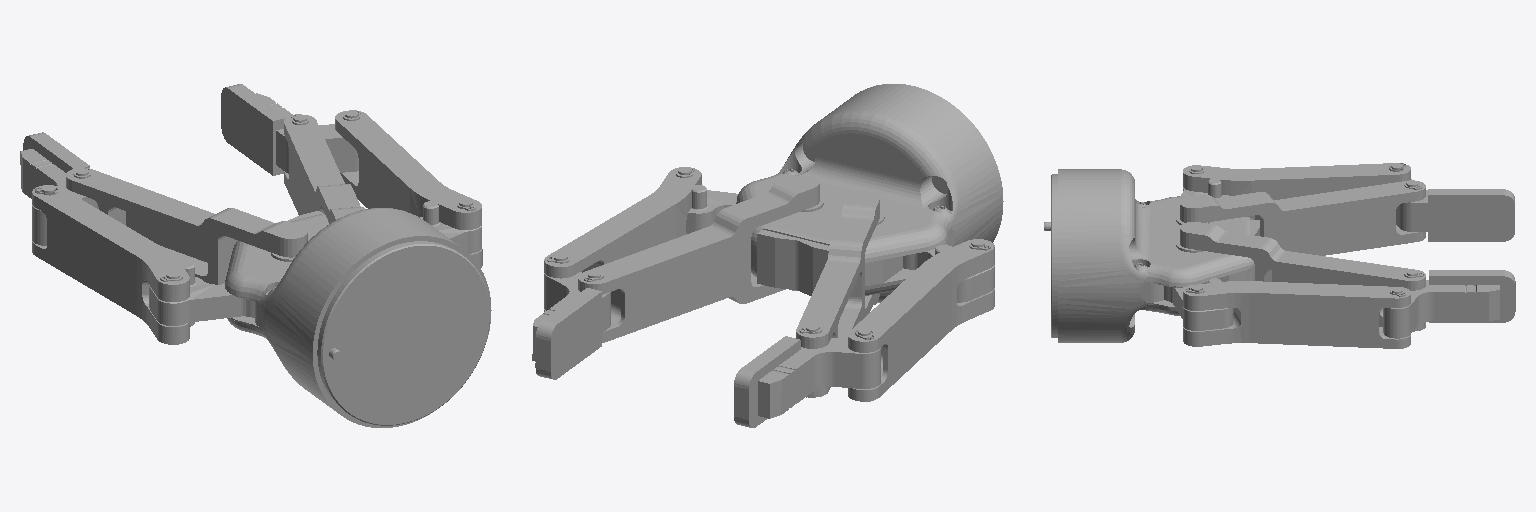
URDF robot description (ur10):
<robot name="ur10" xmlns:xacro="http://ros.org/wiki/xacro">
    <!-- measured from model -->
    <link name="base_link">
      <visual>
        <geometry>
          <mesh filename="package://ur_description/meshes/ur10/visual/base.dae"/>
        </geometry>
      </visual>
      <inertial>
        <mass value="4.0"/>
        <origin rpy="0 0 0" xyz="0.0 0.0 0.0"/>
        <inertia ixx="0.0061063308908" ixy="0.0" ixz="0.0" iyy="0.0061063308908" iyz="0.0" izz="0.01125"/>
      </inertial>
    </link>
    <joint name="shoulder_pan_joint" type="revolute">
      <parent link="base_link"/>
      <child link="shoulder_link"/>
      <origin rpy="0.0 0.0 0.0" xyz="0.0 0.0 0.1273"/>
      <axis xyz="0 0 1"/>
      <limit effort="330.0" lower="-3.14" upper="3.14" velocity="2.16"/>
      <dynamics damping="0.0" friction="0.0"/>
    </joint>
    <link name="shoulder_link">
      <visual>
        <geometry>
          <mesh filename="package://ur_description/meshes/ur10/visual/shoulder.dae"/>
        </geometry>
      </visual>
      <collision>
        <origin rpy="0 0 0" xyz="0 0 0.0"/>
        <geometry>
          <sphere radius="0.11"/>
        </geometry>
      </collision>
      <inertial>
        <mass value="7.778"/>
        <origin rpy="0 0 0" xyz="0.0 0.0 0.0"/>
        <inertia ixx="0.0314743125769" ixy="0.0" ixz="0.0" iyy="0.0314743125769" iyz="0.0" izz="0.021875625"/>
      </inertial>
    </link>
    <joint name="shoulder_lift_joint" type="revolute">
      <parent link="shoulder_link"/>
      <child link="upper_arm_link"/>
      <origin rpy="0.0 1.57 0.0" xyz="0.0 0.220941 0.0"/>
      <axis xyz="0 1 0"/>
      <limit effort="330.0" lower="-3.14" upper="3.14" velocity="2.16"/>
      <dynamics damping="0.0" friction="0.0"/>
    </joint>
    <link name="upper_arm_link">
      <visual>
        <geometry>
          <mesh filename="package://ur_description/meshes/ur10/visual/upperarm.dae"/>
        </geometry>
      </visual>
      <collision>
        <origin rpy="0 0 0" xyz="0 -0.05 0.3"/>
        <geometry>
          <cylinder length="0.6" radius="0.11"/>
        </geometry>
      </collision>
      <collision>
        <origin rpy="0 0 0" xyz="0 -0.05 0"/>
        <geometry>
          <sphere radius="0.11"/>
        </geometry>
      </collision>
      <collision>
        <origin rpy="0 0 0" xyz="0 -0.05 0.6"/>
        <geometry>
          <sphere radius="0.11"/>
        </geometry>
      </collision>
      <inertial>
        <mass value="12.93"/>
        <origin rpy="0 0 0" xyz="0.0 0.0 0.306"/>
        <inertia ixx="0.421753803798" ixy="0.0" ixz="0.0" iyy="0.421753803798" iyz="0.0" izz="0.036365625"/>
      </inertial>
    </link>
    <joint name="elbow_joint" type="revolute">
      <parent link="upper_arm_link"/>
      <child link="forearm_link"/>
      <origin rpy="0.0 0.0 0.0" xyz="0.0 -0.1719 0.612"/>
      <axis xyz="0 1 0"/>
      <limit effort="150.0" lower="-3.14" upper="3.14" velocity="3.15"/>
      <dynamics damping="0.0" friction="0.0"/>
    </joint>
    <link name="forearm_link">
      <visual>
        <geometry>
          <mesh filename="package://ur_description/meshes/ur10/visual/forearm.dae"/>
        </geometry>
      </visual>
      <collision>
        <origin rpy="0 0 0" xyz="0 0 0.28"/>
        <geometry>
          <cylinder length="0.56" radius="0.08"/>
        </geometry>
      </collision>
      <collision>
        <origin rpy="0 0 0" xyz="0 0 0.56"/>
        <geometry>
          <sphere radius="0.08"/>
        </geometry>
      </collision>
      <collision>
        <origin rpy="0 0 0" xyz="0 0 0"/>
        <geometry>
          <sphere radius="0.08"/>
        </geometry>
      </collision>
      <inertial>
        <mass value="3.87"/>
        <origin rpy="0 0 0" xyz="0.0 0.0 0.28615"/>
        <inertia ixx="0.111069694097" ixy="0.0" ixz="0.0" iyy="0.111069694097" iyz="0.0" izz="0.010884375"/>
      </inertial>
    </link>
    <joint name="wrist_1_joint" type="revolute">
      <parent link="forearm_link"/>
      <child link="wrist_1_link"/>
      <origin rpy="0.0 1.57 0.0" xyz="0.0 0.0 0.5723"/>
      <axis xyz="0 1 0"/>
      <limit effort="54.0" lower="-3.14" upper="3.14" velocity="3.2"/>
      <dynamics damping="0.0" friction="0.0"/>
    </joint>
    <link name="wrist_1_link">
      <visual>
        <geometry>
          <mesh filename="package://ur_description/meshes/ur10/visual/wrist1.dae"/>
        </geometry>
      </visual>
      <collision>
        <origin rpy="0 0 0" xyz="0 0.1149 0"/>
        <geometry>
          <sphere radius="0.08"/>
        </geometry>
      </collision>
      <inertial>
        <mass value="1.96"/>
        <origin rpy="0 0 0" xyz="0.0 0.0 0.0"/>
        <inertia ixx="0.0051082479567" ixy="0.0" ixz="0.0" iyy="0.0051082479567" iyz="0.0" izz="0.0055125"/>
      </inertial>
    </link>
    <joint name="wrist_2_joint" type="revolute">
      <parent link="wrist_1_link"/>
      <child link="wrist_2_link"/>
      <origin rpy="0.0 0.0 0.0" xyz="0.0 0.1149 0.0"/>
      <axis xyz="0 0 1"/>
      <limit effort="54.0" lower="-3.14" upper="3.14" velocity="3.2"/>
      <dynamics damping="0.0" friction="0.0"/>
    </joint>
    <link name="wrist_2_link">
      <visual>
        <geometry>
          <mesh filename="package://ur_description/meshes/ur10/visual/wrist2.dae"/>
        </geometry>
      </visual>
      <collision>
        <origin rpy="0 0 0" xyz="0 0 0.1157"/>
        <geometry>
          <sphere radius="0.08"/>
        </geometry>
      </collision>
      <inertial>
        <mass value="1.96"/>
        <origin rpy="0 0 0" xyz="0.0 0.0 0.0"/>
        <inertia ixx="0.0051082479567" ixy="0.0" ixz="0.0" iyy="0.0051082479567" iyz="0.0" izz="0.0055125"/>
      </inertial>
    </link>
    <joint name="wrist_3_joint" type="revolute">
      <parent link="wrist_2_link"/>
      <child link="wrist_3_link"/>
      <origin rpy="0.0 0.0 0.0" xyz="0.0 0.0 0.1157"/>
      <axis xyz="0 1 0"/>
      <limit effort="54.0" lower="-3.14" upper="3.14" velocity="3.2"/>
      <dynamics damping="0.0" friction="0.0"/>
    </joint>
    <link name="wrist_3_link">
      <visual>
        <geometry>
          <mesh filename="package://ur_description/meshes/ur10/visual/wrist3.dae"/>
        </geometry>
      </visual>
      <collision>
        <origin rpy="0 0 0" xyz="0 0.2622 0"/>
        <geometry>
          <sphere radius="0.1"/>
        </geometry>
      </collision>
      <inertial>
        <mass value="0.202"/>
        <origin rpy="0 0 0" xyz="0.0 0.0 0.0"/>
        <inertia ixx="0.000526462289415" ixy="0.0" ixz="0.0" iyy="0.000526462289415" iyz="0.0" izz="0.000568125"/>
      </inertial>
    </link>
    <joint name="ee_fixed_joint" type="fixed">
      <parent link="wrist_3_link"/>
      <child link="ee_link"/>
      <origin rpy="0.0 0.0 1.57" xyz="0.0 0.0922 0.0"/>
    </joint>
    <link name="ee_link"/>
    <transmission name="shoulder_pan_trans">
      <type>transmission_interface/SimpleTransmission</type>
      <joint name="shoulder_pan_joint">
        <hardwareInterface>hardware_interface/VelocityJointInterface</hardwareInterface>
      </joint>
      <actuator name="shoulder_pan_motor">
        <mechanicalReduction>1</mechanicalReduction>
        <hardwareInterface>hardware_interface/VelocityJointInterface</hardwareInterface>
      </actuator>
    </transmission>
    <transmission name="shoulder_lift_trans">
      <type>transmission_interface/SimpleTransmission</type>
      <joint name="shoulder_lift_joint">
        <hardwareInterface>hardware_interface/VelocityJointInterface</hardwareInterface>
      </joint>
      <actuator name="shoulder_lift_motor">
        <mechanicalReduction>1</mechanicalReduction>
        <hardwareInterface>hardware_interface/VelocityJointInterface</hardwareInterface>
      </actuator>
    </transmission>
    <transmission name="elbow_trans">
      <type>transmission_interface/SimpleTransmission</type>
      <joint name="elbow_joint">
        <hardwareInterface>hardware_interface/VelocityJointInterface</hardwareInterface>
      </joint>
      <actuator name="elbow_motor">
        <mechanicalReduction>1</mechanicalReduction>
        <hardwareInterface>hardware_interface/VelocityJointInterface</hardwareInterface>
      </actuator>
    </transmission>
    <transmission name="wrist_1_trans">
      <type>transmission_interface/SimpleTransmission</type>
      <joint name="wrist_1_joint">
        <hardwareInterface>hardware_interface/VelocityJointInterface</hardwareInterface>
      </joint>
      <actuator name="wrist_1_motor">
        <mechanicalReduction>1</mechanicalReduction>
        <hardwareInterface>hardware_interface/VelocityJointInterface</hardwareInterface>
      </actuator>
    </transmission>
    <transmission name="wrist_2_trans">
      <type>transmission_interface/SimpleTransmission</type>
      <joint name="wrist_2_joint">
        <hardwareInterface>hardware_interface/VelocityJointInterface</hardwareInterface>
      </joint>
      <actuator name="wrist_2_motor">
        <mechanicalReduction>1</mechanicalReduction>
        <hardwareInterface>hardware_interface/VelocityJointInterface</hardwareInterface>
      </actuator>
    </transmission>
    <transmission name="wrist_3_trans">
      <type>transmission_interface/SimpleTransmission</type>
      <joint name="wrist_3_joint">
        <hardwareInterface>hardware_interface/VelocityJointInterface</hardwareInterface>
      </joint>
      <actuator name="wrist_3_motor">
        <mechanicalReduction>1</mechanicalReduction>
        <hardwareInterface>hardware_interface/VelocityJointInterface</hardwareInterface>
      </actuator>
    </transmission>
    <joint name="robotiq_140_base_joint" type="fixed">
      <parent link="ee_link"/>
      <child link="robotiq_140_base_link"/>
      <origin rpy="0.0 0.0 0.0" xyz="0.03 0.0 0.0"/>
      <!-- 3cm for force-torque sensor. TODO: replace by real model -->
    </joint>
    <link name="robotiq_140_base_link">
      <visual>
        <geometry>
          <mesh filename="package://ur_description/meshes/robotiq_140/visual/robotiq_140_base_link.dae"/>
        </geometry>
      </visual>
      <inertial>
        <mass value="0.636951"/>
        <origin xyz="0.0 0.0 0.0"/>
        <inertia ixx="0.000380" ixy="0.000000" ixz="0.000000" iyx="0.000000" iyy="0.001110" iyz="0.000000" izx="0.000000" izy="0.000000" izz="0.001171"/>
      </inertial>
    </link>
    <joint name="robotiq_140_left_knuckle_joint" type="revolute">
      <parent link="robotiq_140_base_link"/>
      <child link="robotiq_140_left_knuckle_link"/>
      <axis xyz="0 0 1"/>
      <origin rpy="3.14 0.0 0.0" xyz="0.05490452 0.03060114 0.0"/>
      <limit effort="1000" lower="-0.402" upper="0.402" velocity="2.0"/>
    </joint>
    <joint name="robotiq_140_right_knuckle_joint" type="continuous">
      <parent link="robotiq_140_base_link"/>
      <child link="robotiq_140_right_knuckle_link"/>
      <axis xyz="0 0 1"/>
      <origin rpy="0.0 0.0 0.0" xyz="0.05490452 -0.03060114 0.0"/>
      <limit effort="1000" lower="-3.14" upper="3.14" velocity="100.0"/>
      <mimic joint="robotiq_140_left_knuckle_joint"/>
    </joint>
    <link name="robotiq_140_left_knuckle_link">
      <visual>
        <geometry>
          <mesh filename="package://ur_description/meshes/robotiq_140/visual/robotiq_140_knuckle_link.dae"/>
        </geometry>
      </visual>
      <inertial>
        <mass value="0.018491"/>
        <origin xyz="0.0 0.0 0.0"/>
        <inertia ixx="0.000009" ixy="-0.000001" ixz="0.000000" iyx="-0.000001" iyy="0.000001" iyz="0.000000" izx="0.000000" izy="0.000000" izz="0.000010"/>
      </inertial>
    </link>
    <link name="robotiq_140_right_knuckle_link">
      <visual>
        <geometry>
          <mesh filename="package://ur_description/meshes/robotiq_140/visual/robotiq_140_knuckle_link.dae"/>
        </geometry>
      </visual>
      <inertial>
        <mass value="0.018491"/>
        <origin xyz="0.0 0.0 0.0"/>
        <inertia ixx="0.000009" ixy="-0.000001" ixz="0.000000" iyx="-0.000001" iyy="0.000001" iyz="0.000000" izx="0.000000" izy="0.000000" izz="0.000010"/>
      </inertial>
    </link>
    <joint name="robotiq_140_left_finger_joint" type="fixed">
      <parent link="robotiq_140_left_knuckle_link"/>
      <child link="robotiq_140_left_finger_link"/>
      <origin rpy="0 0 0" xyz="0.00795779 -0.03073656 0.0"/>
    </joint>
    <joint name="robotiq_140_right_finger_joint" type="fixed">
      <parent link="robotiq_140_right_knuckle_link"/>
      <child link="robotiq_140_right_finger_link"/>
      <origin rpy="0 0 0" xyz="0.00795779 -0.03073656 0.0"/>
    </joint>
    <link name="robotiq_140_left_finger_link">
      <visual>
        <geometry>
          <mesh filename="package://ur_description/meshes/robotiq_140/visual/robotiq_140_finger_link.dae"/>
        </geometry>
      </visual>
      <inertial>
        <mass value="0.027309"/>
        <origin xyz="0.0 0.0 0.0"/>
        <inertia ixx="0.000003" ixy="-0.000002" ixz="0.000000" iyx="-0.000002" iyy="0.000021" iyz="0.000000" izx="0.000000" izy="0.000000" izz="0.000020"/>
      </inertial>
    </link>
    <link name="robotiq_140_right_finger_link">
      <visual>
        <geometry>
          <mesh filename="package://ur_description/meshes/robotiq_140/visual/robotiq_140_finger_link.dae"/>
        </geometry>
      </visual>
      <inertial>
        <mass value="0.027309"/>
        <origin xyz="0.0 0.0 0.0"/>
        <inertia ixx="0.000003" ixy="-0.000002" ixz="0.000000" iyx="-0.000002" iyy="0.000021" iyz="0.000000" izx="0.000000" izy="0.000000" izz="0.000020"/>
      </inertial>
    </link>
    <joint name="robotiq_140_left_inner_knuckle_joint" type="continuous">
      <parent link="robotiq_140_base_link"/>
      <child link="robotiq_140_left_inner_knuckle_link"/>
      <axis xyz="0 0 1"/>
      <origin rpy="3.14 0.0 0.0" xyz="0.06142 0.0127 0"/>
      <limit effort="0.1" lower="-3.14" upper="3.14" velocity="100.0"/>
      <mimic joint="robotiq_140_left_knuckle_joint" offset="0"/>
    </joint>
    <joint name="robotiq_140_right_inner_knuckle_joint" type="continuous">
      <parent link="robotiq_140_base_link"/>
      <child link="robotiq_140_right_inner_knuckle_link"/>
      <axis xyz="0 0 1"/>
      <origin rpy="0 0 0" xyz="0.06142 -0.0127 0"/>
      <limit effort="0.1" lower="-3.14" upper="3.14" velocity="100.0"/>
      <mimic joint="robotiq_140_left_knuckle_joint" offset="0"/>
    </joint>
    <link name="robotiq_140_left_inner_knuckle_link">
      <visual>
        <geometry>
          <mesh filename="package://ur_description/meshes/robotiq_140/visual/robotiq_140_inner_knuckle_link.dae"/>
        </geometry>
      </visual>
      <inertial>
        <mass value="0.029951"/>
        <origin xyz="0.0 0.0 0.0"/>
        <inertia ixx="0.000039" ixy="0.000000" ixz="0.000000" iyx="0.000000" iyy="0.000005" iyz="0.000000" izx="0.000000" izy="0.000000" izz="0.000035"/>
      </inertial>
    </link>
    <link name="robotiq_140_right_inner_knuckle_link">
      <visual>
        <geometry>
          <mesh filename="package://ur_description/meshes/robotiq_140/visual/robotiq_140_inner_knuckle_link.dae"/>
        </geometry>
      </visual>
      <inertial>
        <mass value="0.029951"/>
        <origin xyz="0.0 0.0 0.0"/>
        <inertia ixx="0.000039" ixy="0.000000" ixz="0.000000" iyx="0.000000" iyy="0.000005" iyz="0.000000" izx="0.000000" izy="0.000000" izz="0.000035"/>
      </inertial>
    </link>
    <joint name="robotiq_140_left_finger_tip_joint" type="continuous">
      <parent link="robotiq_140_left_inner_knuckle_link"/>
      <child link="robotiq_140_left_finger_tip_link"/>
      <axis xyz="0 0 1"/>
      <origin rpy="0.0 0.0 0.0" xyz="0.09441861 -0.03294127 0.0"/>
      <limit effort="0.1" lower="-3.14" upper="3.14" velocity="100.0"/>
      <mimic joint="robotiq_140_left_knuckle_joint" multiplier="-1"/>
    </joint>
    <joint name="robotiq_140_right_finger_tip_joint" type="continuous">
      <parent link="robotiq_140_right_inner_knuckle_link"/>
      <child link="robotiq_140_right_finger_tip_link"/>
      <axis xyz="0 0 1"/>
      <origin rpy="0.0 0.0 0.0" xyz="0.09441861 -0.03294127  0.0"/>
      <limit effort="0.1" lower="-3.14" upper="3.14" velocity="100.0"/>
      <mimic joint="robotiq_140_left_knuckle_joint" multiplier="-1"/>
    </joint>
    <link name="robotiq_140_left_finger_tip_link">
      <visual>
        <geometry>
          <mesh filename="package://ur_description/meshes/robotiq_140/visual/robotiq_140_finger_tip_link.dae"/>
        </geometry>
      </visual>
      <inertial>
        <mass value="0.019555"/>
        <origin xyz="0.0 0.0 0.0"/>
        <inertia ixx="0.000002" ixy="0.000000" ixz="0.000000" iyx="0.000000" iyy="0.000005" iyz="0.000000" izx="0.000000" izy="0.000000" izz="0.000006"/>
      </inertial>
    </link>
    <link name="robotiq_140_right_finger_tip_link">
      <visual>
        <geometry>
          <mesh filename="package://ur_description/meshes/robotiq_140/visual/robotiq_140_finger_tip_link.dae"/>
        </geometry>
      </visual>
      <inertial>
        <mass value="0.019555"/>
        <origin xyz="0.0 0.0 0.0"/>
        <inertia ixx="0.000002" ixy="0.000000" ixz="0.000000" iyx="0.000000" iyy="0.000005" iyz="0.000000" izx="0.000000" izy="0.000000" izz="0.000006"/>
      </inertial>
    </link>
    <gazebo>
      <!-- loading plugin: mimic joints works in gazebo now -->
      <plugin filename="libroboticsgroup_gazebo_mimic_joint_plugin.so" name="mimic_robotiq_140_1">
        <robotNamespace>/ur10</robotNamespace>
        <joint>robotiq_140_left_knuckle_joint</joint>
        <mimicJoint>robotiq_140_right_knuckle_joint</mimicJoint>
        <!--multiplier>1.0</multiplier>
              <offset>0.0</offset-->
      </plugin>
      <plugin filename="libroboticsgroup_gazebo_mimic_joint_plugin.so" name="mimic_robotiq_140_2">
        <robotNamespace>/ur10</robotNamespace>
        <joint>robotiq_140_left_knuckle_joint</joint>
        <mimicJoint>robotiq_140_left_inner_knuckle_joint</mimicJoint>
        <!--multiplier>1.0</multiplier>
              <offset>0.0</offset-->
      </plugin>
      <plugin filename="libroboticsgroup_gazebo_mimic_joint_plugin.so" name="mimic_robotiq_140_3">
        <robotNamespace>/ur10</robotNamespace>
        <joint>robotiq_140_left_knuckle_joint</joint>
        <mimicJoint>robotiq_140_right_inner_knuckle_joint</mimicJoint>
        <!--multiplier>1.0</multiplier>
              <offset>0.0</offset-->
      </plugin>
      <plugin filename="libroboticsgroup_gazebo_mimic_joint_plugin.so" name="mimic_robotiq_140_4">
        <robotNamespace>/ur10</robotNamespace>
        <joint>robotiq_140_left_knuckle_joint</joint>
        <mimicJoint>robotiq_140_left_finger_tip_joint</mimicJoint>
        <multiplier>-1.0</multiplier>
        <offset>0.0</offset>
      </plugin>
      <plugin filename="libroboticsgroup_gazebo_mimic_joint_plugin.so" name="mimic_robotiq_140_5">
        <robotNamespace>/ur10</robotNamespace>
        <joint>robotiq_140_left_knuckle_joint</joint>
        <mimicJoint>robotiq_140_right_finger_tip_joint</mimicJoint>
        <multiplier>-1.0</multiplier>
        <offset>0.0</offset>
      </plugin>
    </gazebo>
    <transmission name="robotiq_140_left_knuckle_trans">
      <type>transmission_interface/SimpleTransmission</type>
      <joint name="robotiq_140_left_knuckle_joint">
        <hardwareInterface>hardware_interface/PositionJointInterface</hardwareInterface>
      </joint>
      <actuator name="robotiq_140_left_knuckle_motor">
        <mechanicalReduction>1</mechanicalReduction>
        <hardwareInterface>hardware_interface/PositionJointInterface</hardwareInterface>
      </actuator>
    </transmission>
    <link name="pedestal_link">
      <visual>
        <origin rpy="0.0 0.0 0.0" xyz="-0.23 -0.33 -0.013"/>
        <geometry>
          <mesh filename="package://ur_description/meshes/rst_ft/rst_base.stl" scale="0.0255 0.0255 0.0253"/>
        </geometry>
        <material name="darkgray"/>
      </visual>
      <collision>
        <origin rpy="0 0 0" xyz="0 0 0.38"/>
        <geometry>
          <cylinder length="0.76" radius="0.1"/>
        </geometry>
      </collision>
      <collision>
        <origin rpy="0 0 0" xyz="0 0 0.76"/>
        <geometry>
          <sphere radius="0.1"/>
        </geometry>
      </collision>
    </link>
    <joint name="mount" type="fixed">
      <origin rpy="0 0 0" xyz="0.0 0.0 0.8"/>
      <parent link="pedestal_link"/>
      <child link="base_link"/>
    </joint>
    <link name="world"/>
    <joint name="world_joint" type="fixed">
      <parent link="world"/>
      <child link="pedestal_link"/>
      <origin rpy="0.0 0.0 0.0" xyz="0.0 0.0 0.0"/>
    </joint>
    <gazebo reference="pedestal_link">
      <turnGravityOff>1</turnGravityOff>
    </gazebo>
    <gazebo reference="base_link">
      <turnGravityOff>1</turnGravityOff>
    </gazebo>
    <gazebo reference="shoulder_link">
      <turnGravityOff>1</turnGravityOff>
    </gazebo>
    <gazebo reference="upper_arm_link">
      <turnGravityOff>1</turnGravityOff>
    </gazebo>
    <gazebo reference="forearm_link">
      <turnGravityOff>1</turnGravityOff>
    </gazebo>
    <gazebo reference="wrist_1_link">
      <turnGravityOff>1</turnGravityOff>
    </gazebo>
    <gazebo reference="wrist_2_link">
      <turnGravityOff>1</turnGravityOff>
    </gazebo>
    <gazebo reference="wrist_3_link">
      <turnGravityOff>1</turnGravityOff>
    </gazebo>
    <gazebo reference="ee_link">
      <turnGravityOff>1</turnGravityOff>
    </gazebo>
    <gazebo>
      <plugin filename="libgazebo_ros_control.so" name="gazebo_ros_control">
        <robotNamespace>/ur10</robotNamespace>
      </plugin>
    </gazebo>
  </robot>

--- What the picture shows (computed from the rendered views, not written in the file) ---
Views: 3 orthographic renders of the robot side by side, from view 1: azimuth 30°, elevation 25°; view 2: azimuth 150°, elevation 25°; view 3: azimuth 270°, elevation 25°.
Model ur10 with 19 links and 18 joints (7 revolute, 5 continuous, 6 fixed), rooted at world, posed every joint at zero.
Visible links, largest first — view 1: robotiq_140_base_link, robotiq_140_right_finger_link, robotiq_140_right_inner_knuckle_link, robotiq_140_left_finger_link, robotiq_140_left_finger_tip_link, robotiq_140_left_inner_knuckle_link, robotiq_140_right_finger_tip_link, robotiq_140_right_knuckle_link, robotiq_140_left_knuckle_link; view 2: robotiq_140_base_link, robotiq_140_left_inner_knuckle_link, robotiq_140_right_finger_link, robotiq_140_right_finger_tip_link, robotiq_140_right_inner_knuckle_link, robotiq_140_left_finger_link, robotiq_140_left_finger_tip_link, robotiq_140_left_knuckle_link, robotiq_140_right_knuckle_link; view 3: robotiq_140_base_link, robotiq_140_left_finger_link, robotiq_140_right_inner_knuckle_link, robotiq_140_left_inner_knuckle_link, robotiq_140_left_finger_tip_link, robotiq_140_right_finger_link, robotiq_140_right_finger_tip_link, robotiq_140_left_knuckle_link.
Boxes of the visible links, <box> form: robotiq_140_base_link: <box>225,208,491,427</box>; robotiq_140_right_finger_link: <box>32,185,189,344</box>; robotiq_140_right_inner_knuckle_link: <box>66,167,307,284</box>; robotiq_140_left_finger_link: <box>335,110,482,267</box>; robotiq_140_left_finger_tip_link: <box>221,84,358,175</box>; robotiq_140_left_inner_knuckle_link: <box>284,114,364,223</box>; robotiq_140_right_finger_tip_link: <box>20,132,98,245</box>; robotiq_140_right_knuckle_link: <box>149,261,254,326</box>; robotiq_140_left_knuckle_link: <box>420,201,481,253</box>; robotiq_140_base_link: <box>736,84,1003,302</box>; robotiq_140_left_inner_knuckle_link: <box>578,176,819,342</box>; robotiq_140_right_finger_link: <box>848,239,994,401</box>; robotiq_140_right_finger_tip_link: <box>734,336,880,427</box>; robotiq_140_right_inner_knuckle_link: <box>796,190,879,397</box>; robotiq_140_left_finger_link: <box>544,167,701,311</box>; robotiq_140_left_finger_tip_link: <box>532,272,610,379</box>; robotiq_140_left_knuckle_link: <box>686,185,737,233</box>; robotiq_140_right_knuckle_link: <box>903,244,994,302</box>; robotiq_140_base_link: <box>1044,169,1259,342</box>; robotiq_140_left_finger_link: <box>1183,281,1410,348</box>; robotiq_140_right_inner_knuckle_link: <box>1180,180,1425,255</box>; robotiq_140_left_inner_knuckle_link: <box>1180,222,1425,331</box>; robotiq_140_left_finger_tip_link: <box>1383,270,1515,338</box>; robotiq_140_right_finger_link: <box>1183,163,1410,219</box>; robotiq_140_right_finger_tip_link: <box>1396,179,1514,241</box>; robotiq_140_left_knuckle_link: <box>1164,278,1232,330</box>.
Bounding box of the posed robot: 0.1391 × 0.2033 × 0.075 m (x, y, z).
9 mesh visuals loaded from 13 distinct referenced files (5 Collada DAE); not drawn: 8 (reference not matched to a file when rendering).